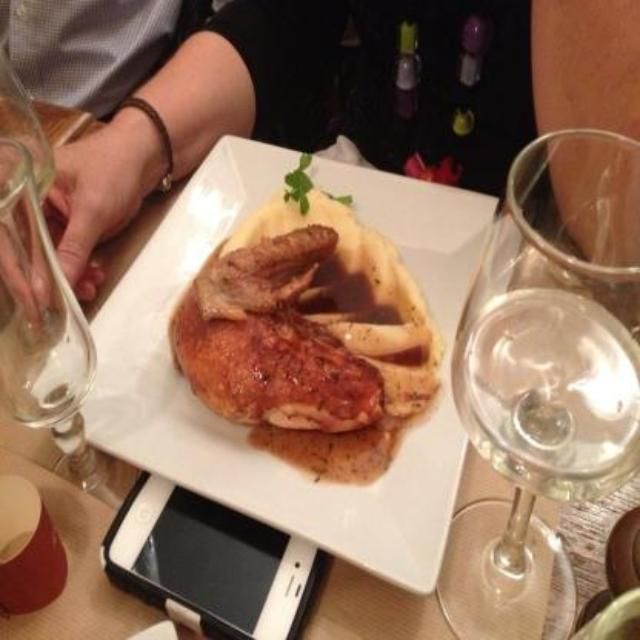Smartphone: (93, 464, 329, 640)
